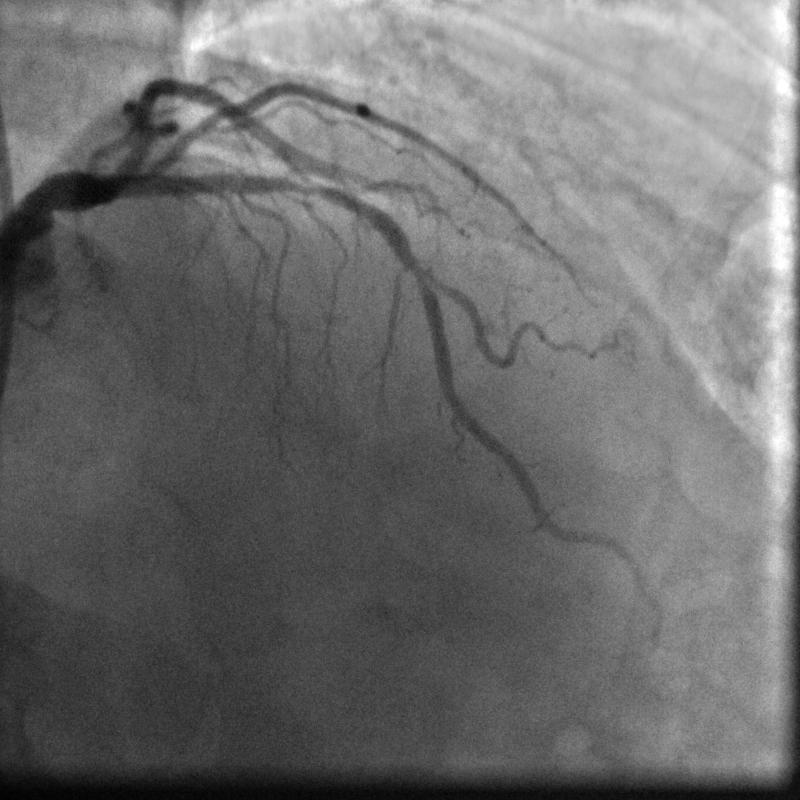Stenosis: (279, 174, 329, 200)
